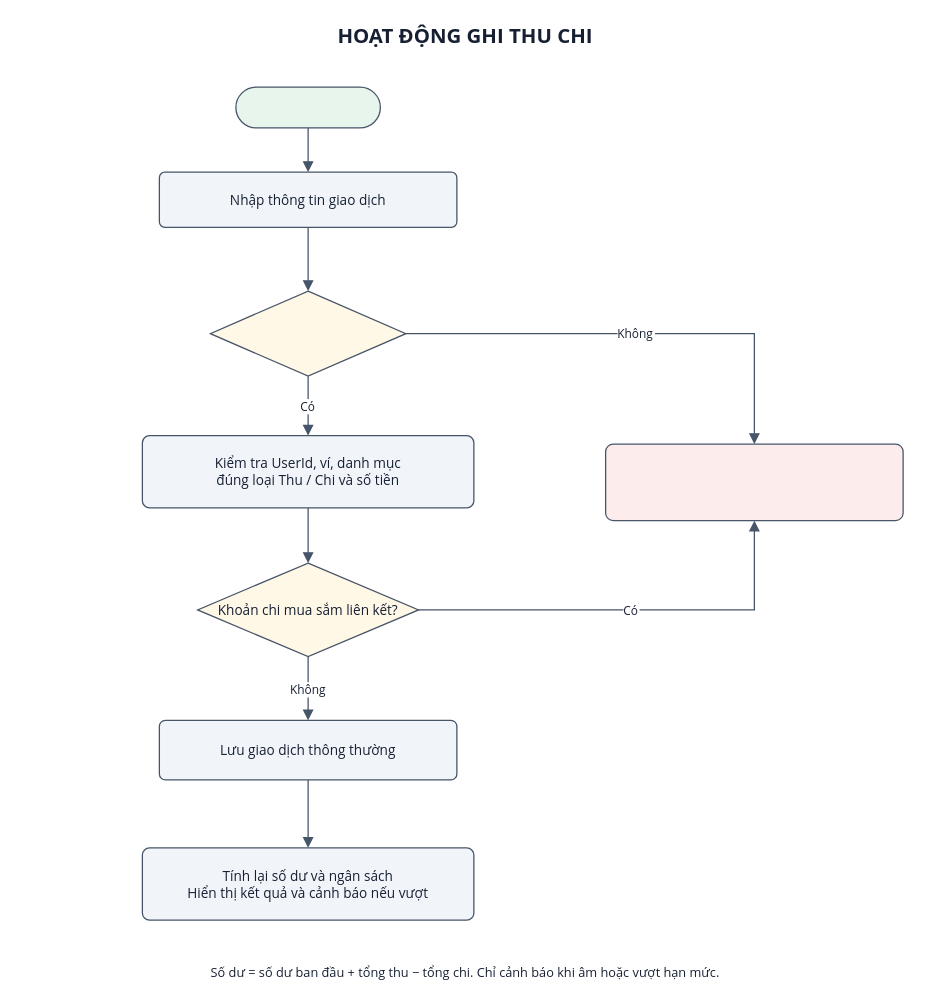
Some shapes in this 930 by 1002 pixel diagram are drawn without their labels. The shapes that lost their labels are listed below. From the top down, each one's centre as x and y in pixels, then its label:
pixel 308 107: Bắt đầu
pixel 307 333: ModelState hợp lệ?
pixel 754 482: Hiển thị lỗi / từ chối thao tác Khoản chi liên kết cần hủy mua trước
